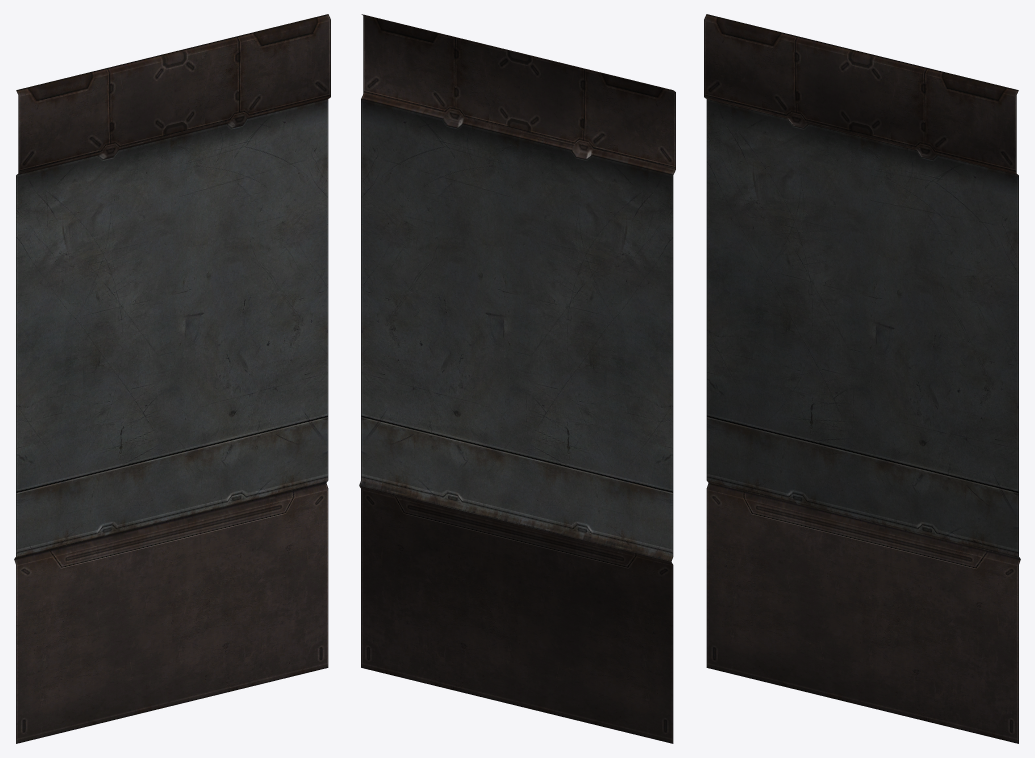
Rendered from datasite_flat01_short_brown.dae.
3 views of the same model, side by side, from view 1: azimuth 30°, elevation 25°; view 2: azimuth 150°, elevation 25°; view 3: azimuth 330°, elevation 25° (orthographic).
Parts seen in each view (by area): view 1: polySurface135; view 2: polySurface135; view 3: polySurface135.
Boxes of the visible parts, x1,y1,x2,y2 form: polySurface135: [14, 14, 330, 743]; polySurface135: [359, 14, 675, 743]; polySurface135: [704, 14, 1020, 743].
Size of the model in its own units: 2 by 4 by 0.0483.
Materials: 1 (1 with a texture image).
